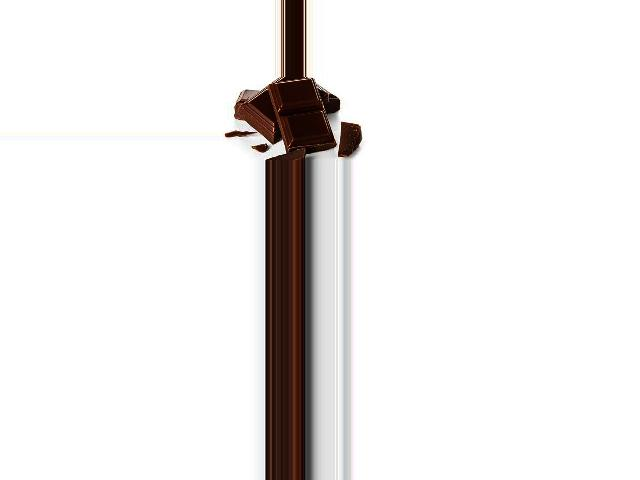chocolate: (267, 81, 333, 151)
